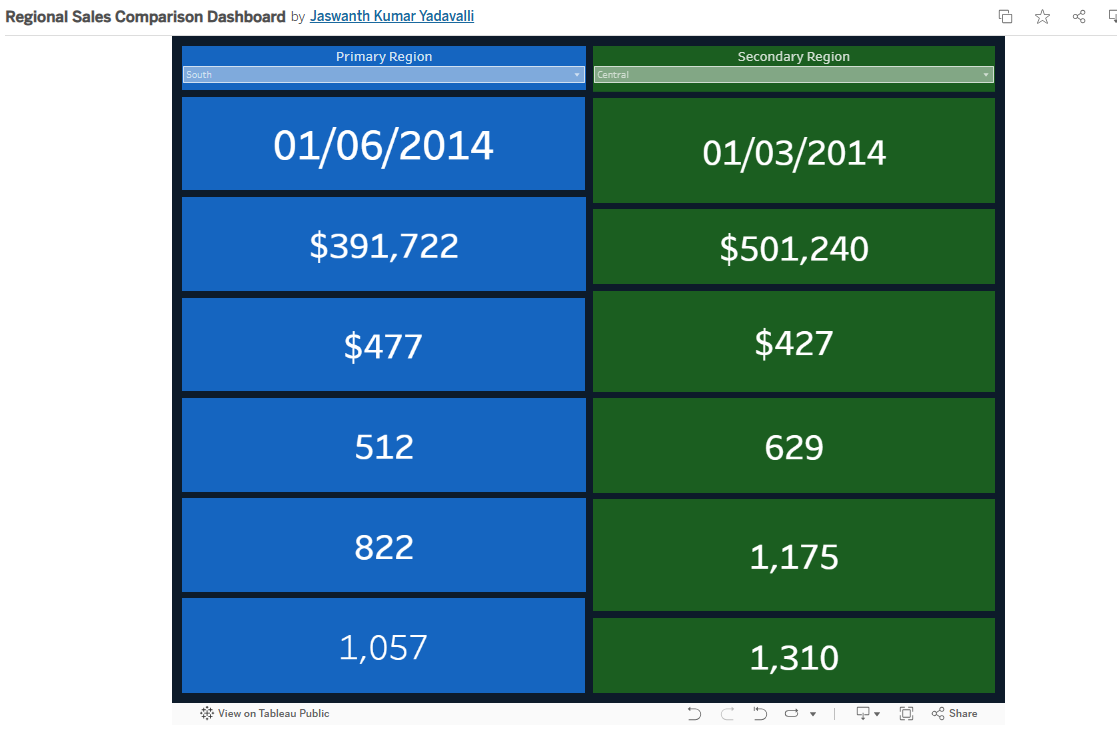

This screenshot's page, from the dashboard's own definition file:
{"tool":"tableau","page":{"name":"Dashboard 1","canvas":[1000,800],"ordinal":0},"visuals":[{"type":"parameter","param":"[Parameters].[Parameter 1]","box":[8,8,492.9,63]},{"type":"parameter","param":"[Parameters].[Parameter 2]","box":[500.9,8,491.1,63]},{"type":"worksheet","title":"PR - First Order Date","mark":"Text","box":[8,71,492.9,120.2]},{"type":"worksheet","title":"SR - First Order Date","mark":"Text","box":[500.9,71,491.1,133]},{"type":"worksheet","title":"PR - Total Sales","mark":"Text","box":[8,191.2,492.9,120.2]},{"type":"worksheet","title":"SR - Total Sales","mark":"Automatic","box":[500.9,204,491.1,98]},{"type":"worksheet","title":"SR Avg Sales per Order","mark":"Automatic","box":[500.9,302,491.1,129]},{"type":"worksheet","title":"PR Avg Sales per Order","mark":"Automatic","box":[8,311.3,492.9,120.2]},{"type":"worksheet","title":"SR No. of Customers","mark":"Automatic","box":[500.9,431,491.1,121]},{"type":"worksheet","title":"PR No. of Customers","mark":"Text","box":[8,431.5,492.9,120.2]},{"type":"worksheet","title":"PR No. of Orders","mark":"Automatic","box":[8,551.6,492.9,120.2]},{"type":"worksheet","title":"SR - No. of Orders","mark":"Automatic","box":[500.9,552,491.1,142]},{"type":"worksheet","title":"PR No. of Products","mark":"Automatic","box":[8,671.8,492.9,120.2]},{"type":"worksheet","title":"SR No. of Products","mark":"Automatic","box":[500.9,694,491.1,98]}]}

Visuals, with their boxes on the page's 1000x800 design canvas (x1, y1, x2, y2). These are canvas units, not pixel positions in the 1117x739 screenshot, which may show the page scaled, cropped or inside an application window:
parameter: box(8, 8, 501, 71)
parameter: box(501, 8, 992, 71)
"PR - First Order Date" worksheet (Text marks): box(8, 71, 501, 191)
"SR - First Order Date" worksheet (Text marks): box(501, 71, 992, 204)
"PR - Total Sales" worksheet (Text marks): box(8, 191, 501, 311)
"SR - Total Sales" worksheet: box(501, 204, 992, 302)
"SR Avg Sales per Order" worksheet: box(501, 302, 992, 431)
"PR Avg Sales per Order" worksheet: box(8, 311, 501, 432)
"SR No. of Customers" worksheet: box(501, 431, 992, 552)
"PR No. of Customers" worksheet (Text marks): box(8, 432, 501, 552)
"PR No. of Orders" worksheet: box(8, 552, 501, 672)
"SR - No. of Orders" worksheet: box(501, 552, 992, 694)
"PR No. of Products" worksheet: box(8, 672, 501, 792)
"SR No. of Products" worksheet: box(501, 694, 992, 792)
